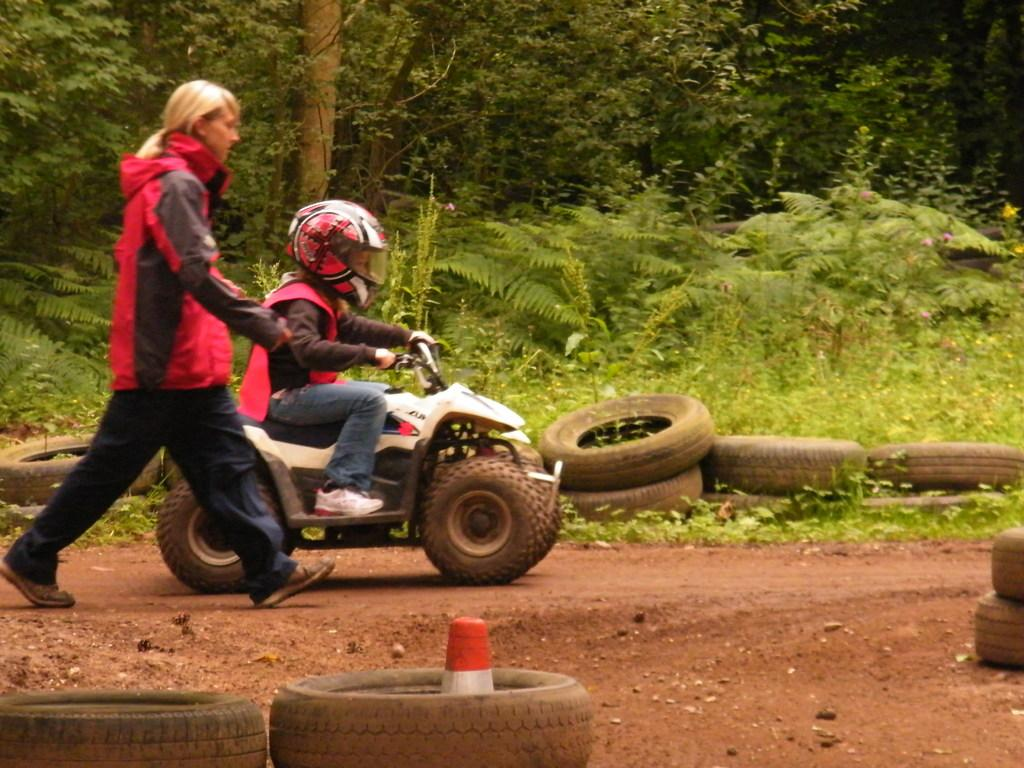helmet: (284, 199, 389, 312)
nohelmet: (163, 79, 243, 171)
